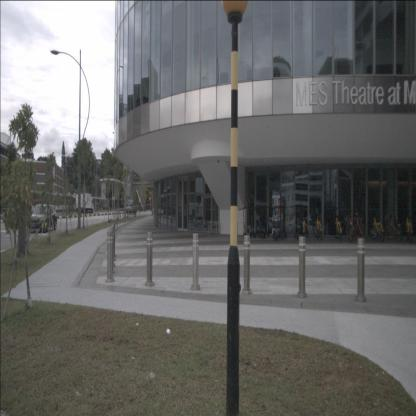vehicle-car: (30, 202, 58, 234), (125, 198, 138, 216)
vehicle-truck: (76, 192, 94, 213)
